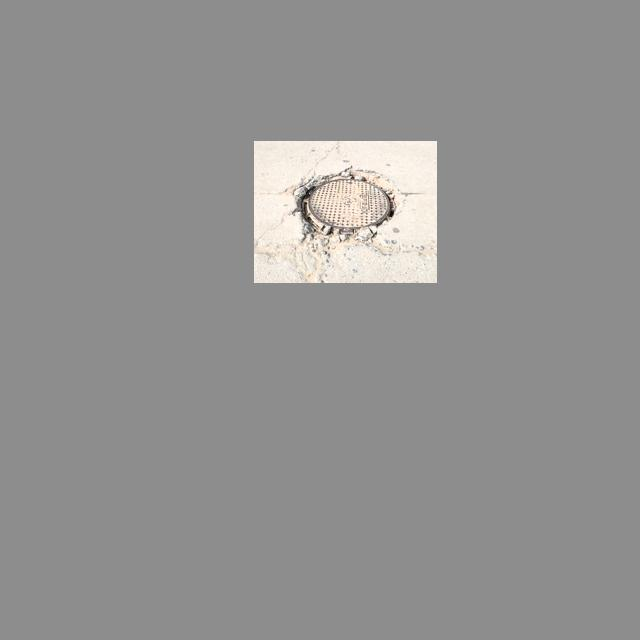circle: (286, 166, 411, 245)
